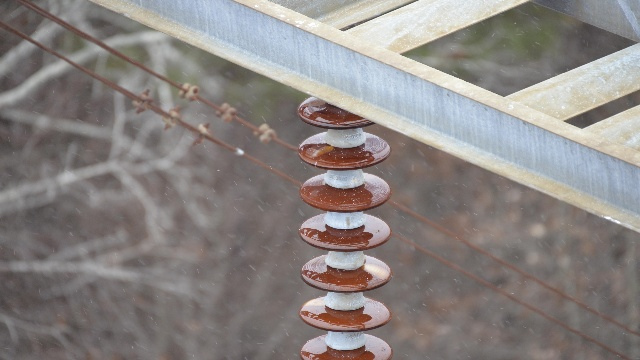insulator_unspecified: (297, 93, 395, 359)
pollution_flashover_local: (359, 261, 391, 280), (307, 141, 332, 158)
